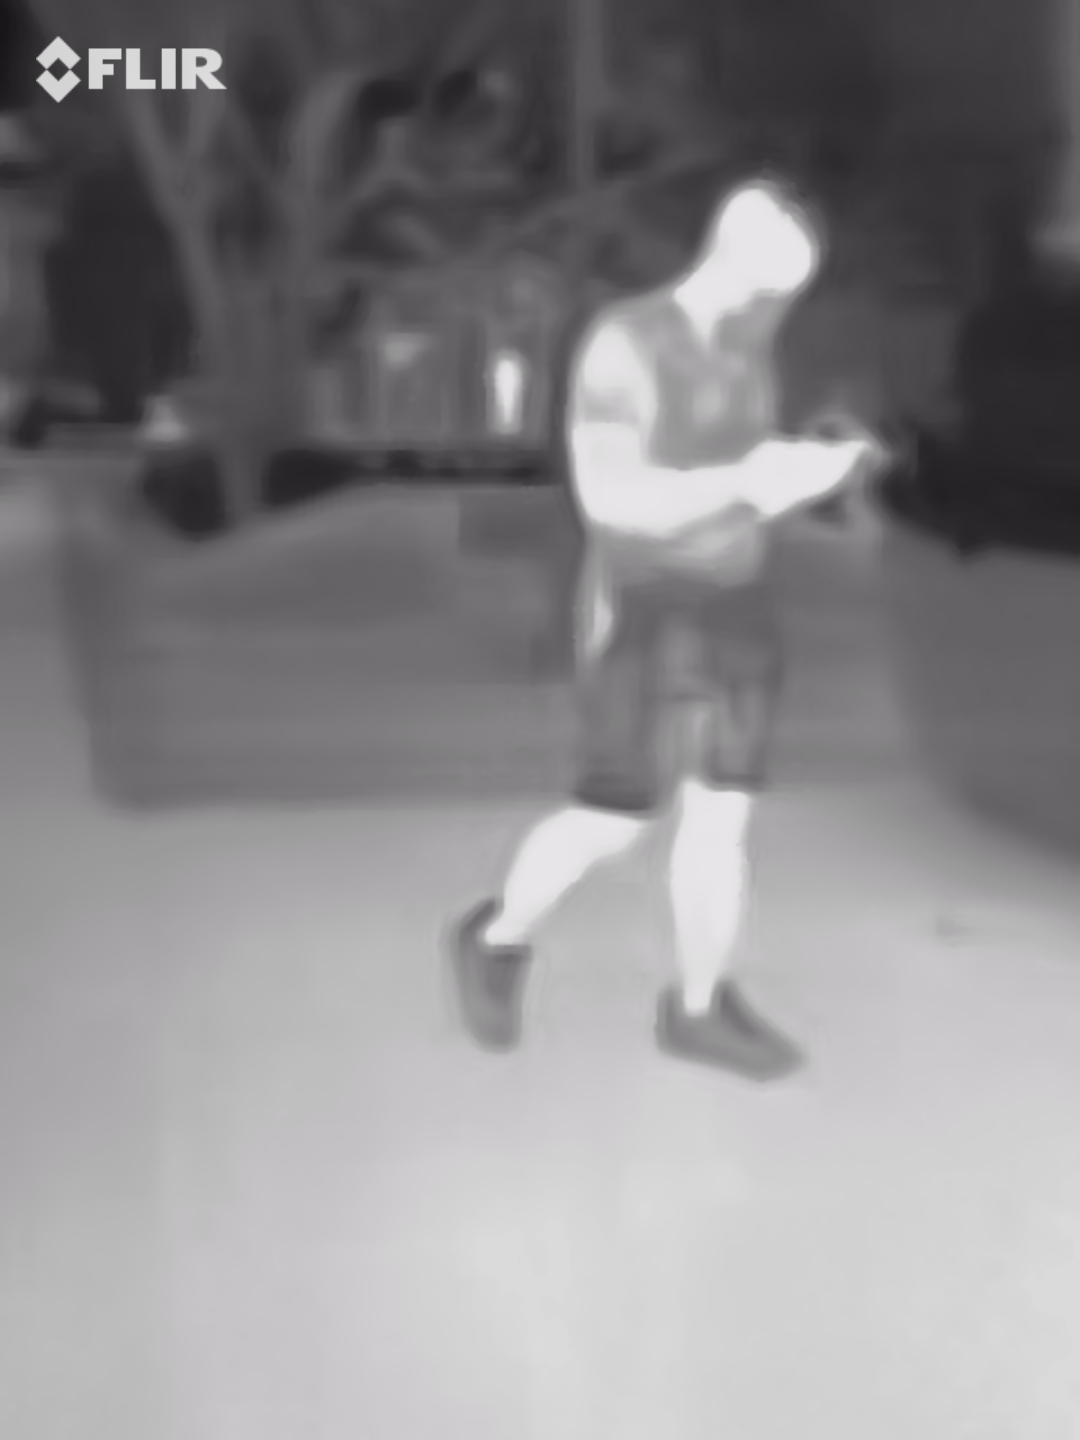head: (701, 177, 821, 347)
